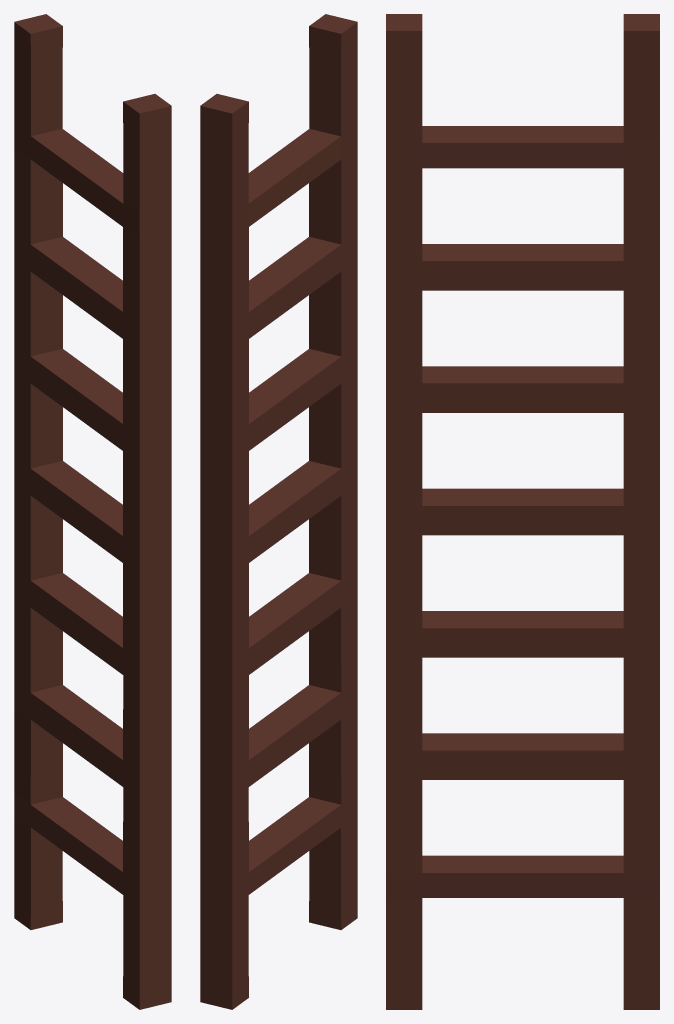
Rendered from PP_Scale_01.fbx.
3 views of the same model, side by side, from view 1: azimuth 30°, elevation 25°; view 2: azimuth 150°, elevation 25°; view 3: azimuth 270°, elevation 25° (orthographic). The views are drawn at different scales.
Visible parts, largest first — view 1: Echelle; view 2: Echelle; view 3: Echelle.
Part boxes in pixels (x1,y1,x2,y2): Echelle: [14, 14, 171, 1009]; Echelle: [200, 14, 357, 1009]; Echelle: [386, 14, 659, 1009].
Bounding box in the file's own units: 0.075 × 0.5074 × 2.
